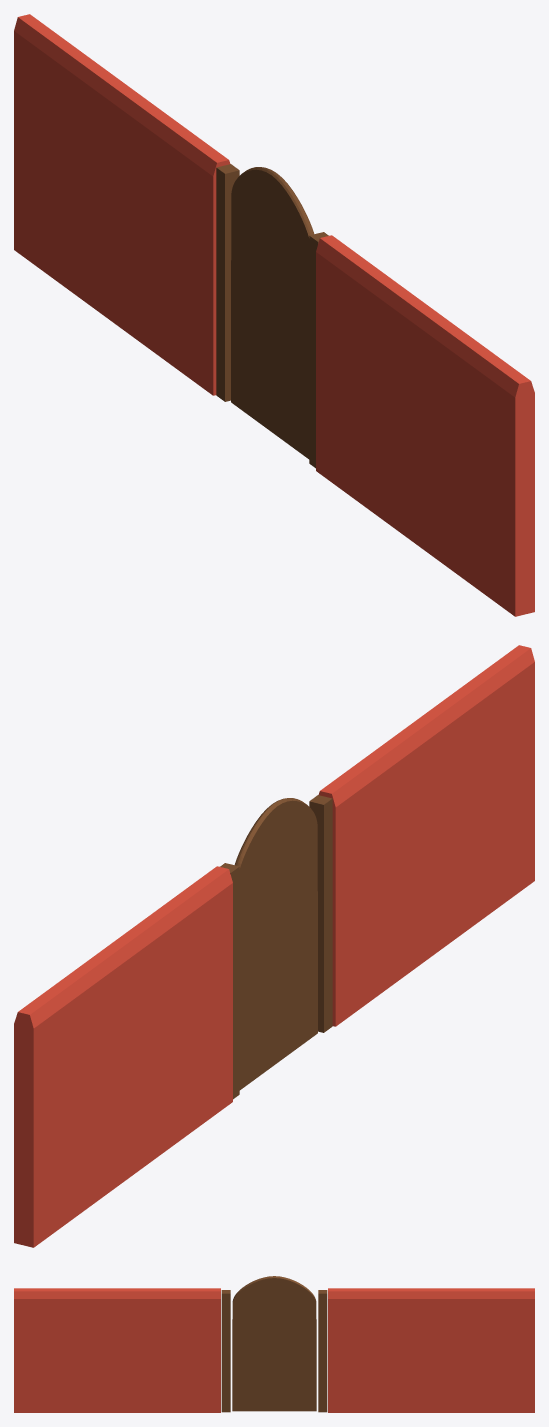
The model's file is Brick Wall.fbx.
The picture shows the model from 3 angles, top to bottom: view 1: azimuth 30°, elevation 25°; view 2: azimuth 150°, elevation 25°; view 3: azimuth 270°, elevation 25°; orthographic projection. The views are drawn at different scales.
Parts seen in each view (by area): view 1: Cube, Cube.001, Cube.002; view 2: Cube, Cube.001, Cube.002; view 3: Cube, Cube.001, Cube.002.
Part boxes in pixels (x1=…): Cube: x1=14, y1=14, x2=534, y2=616; Cube.001: x1=231, y1=167, x2=314, y2=459; Cube.002: x1=216, y1=164, x2=328, y2=468; Cube: x1=14, y1=645, x2=534, y2=1247; Cube.001: x1=234, y1=798, x2=317, y2=1090; Cube.002: x1=220, y1=795, x2=332, y2=1099; Cube: x1=14, y1=1288, x2=534, y2=1412; Cube.001: x1=232, y1=1276, x2=316, y2=1411; Cube.002: x1=221, y1=1290, x2=327, y2=1412.
Size of the model in its own units: 1372 by 31.17 by 391.
